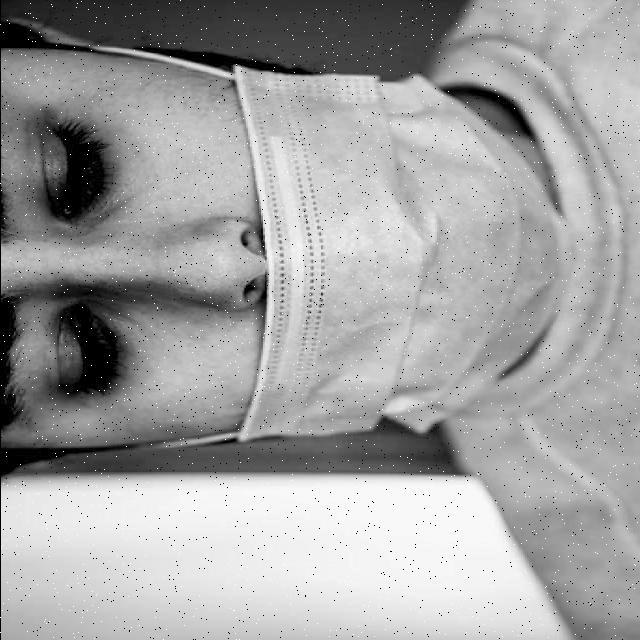mask: (298, 79, 522, 435)
